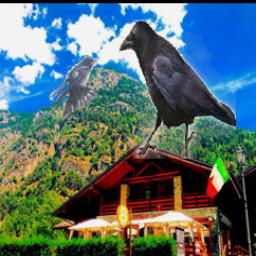Crow: (120, 21, 237, 160)
Swallow: (50, 57, 98, 121)
